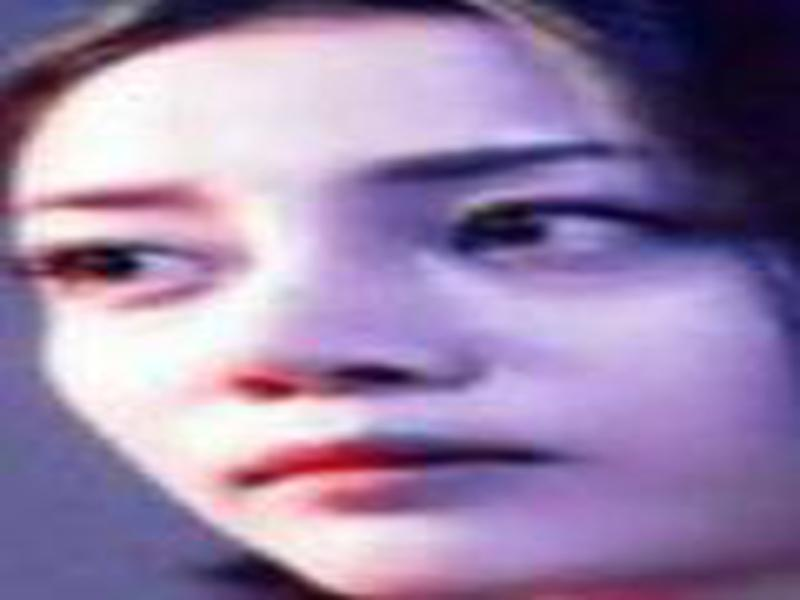without_mask: (13, 97, 800, 597)
